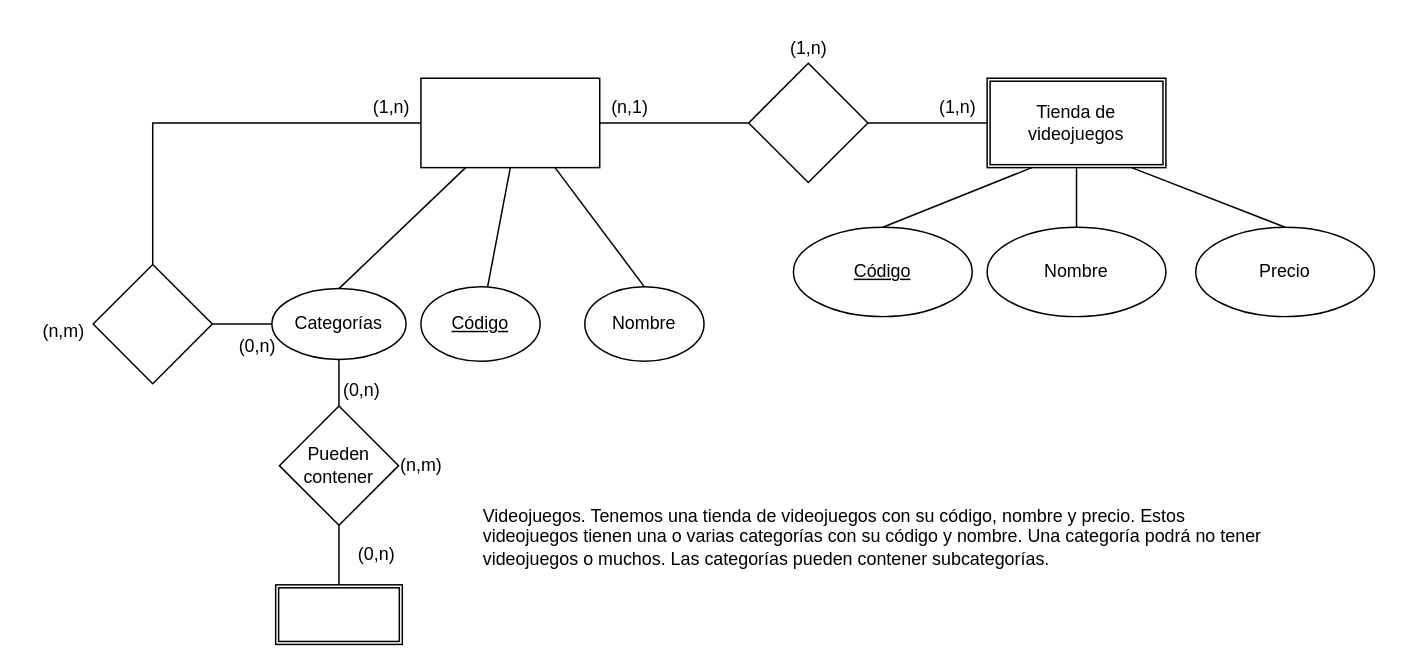
Some shapes in this 1401 by 671 pixel diagram are drawn without their labels. The box of each missing label's shape, as (x1, y1, x2, y2) in pixels:
Puede tener: (92, 263, 212, 384)
Subcategorias: (274, 583, 402, 644)
Tiene: (747, 62, 868, 183)
Videojuegos: (419, 77, 600, 168)
